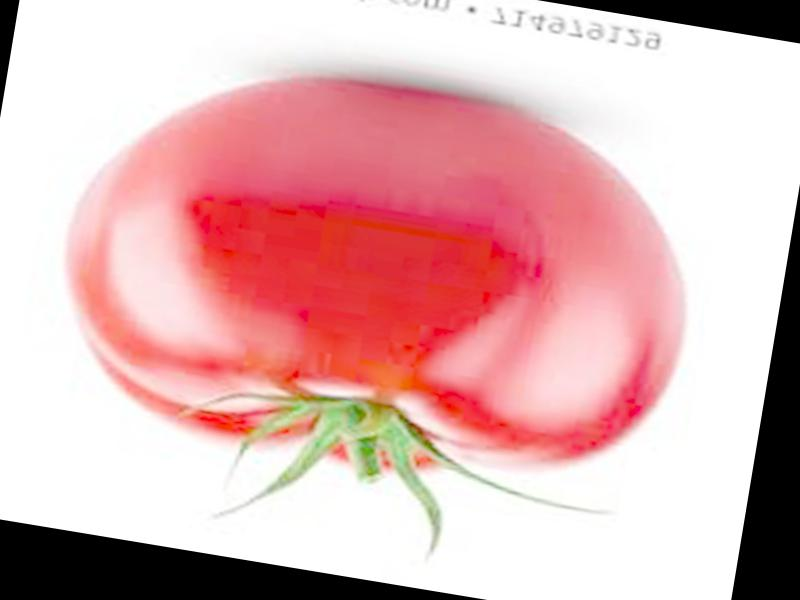Tomato: (37, 39, 714, 511)
